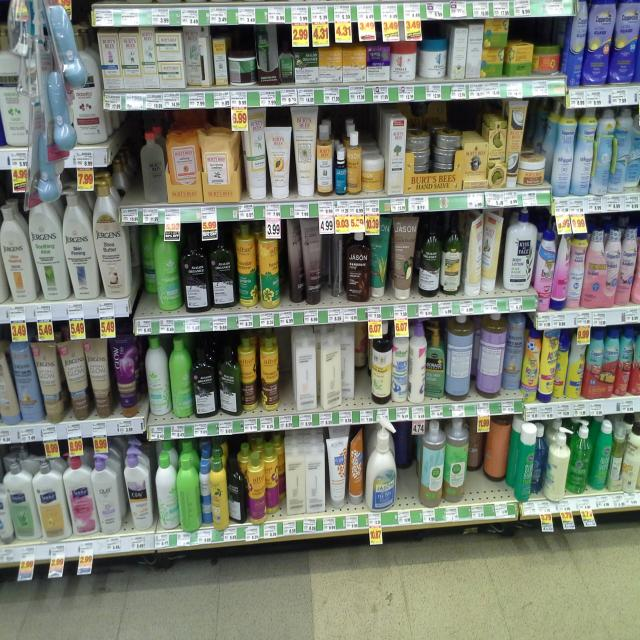unorganised: (466, 422, 511, 497), (467, 214, 502, 298), (318, 334, 355, 408), (133, 130, 166, 205), (446, 317, 473, 405), (547, 425, 576, 506), (477, 316, 503, 398), (280, 221, 303, 307), (184, 26, 212, 91), (371, 218, 392, 300), (224, 464, 251, 527), (345, 434, 369, 504), (135, 232, 157, 308), (260, 453, 286, 515), (505, 319, 523, 396), (553, 334, 571, 402), (554, 237, 570, 311), (326, 235, 344, 300), (532, 428, 547, 499)
